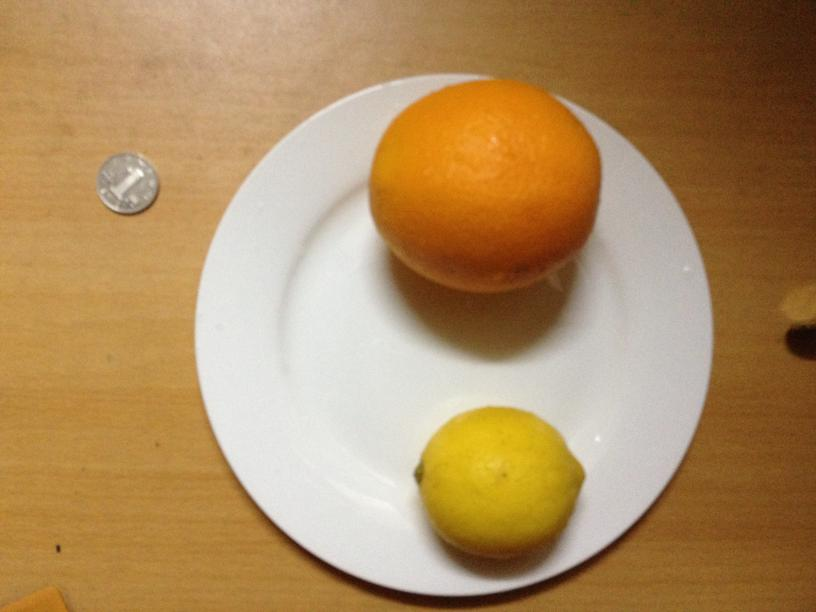coin: (96, 154, 159, 213)
lemon: (417, 405, 584, 559)
orange: (373, 79, 601, 294)
